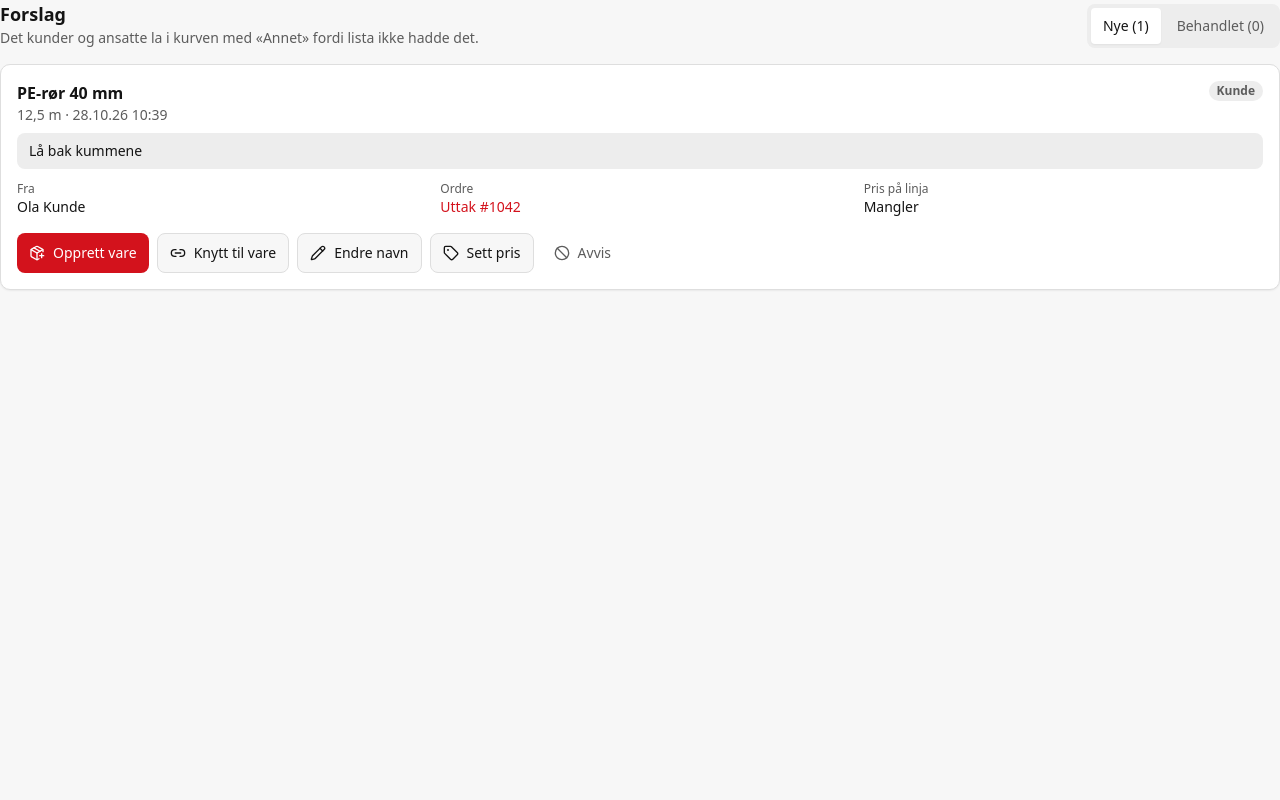
Test: forslagsfanen › knytt til vare sender forslaget og den valgte varen videre
The width and height of the screenshot is (1280, 800).
Click the button "Knytt til vare".
click(223, 253)  # box 157,233 -> 289,273
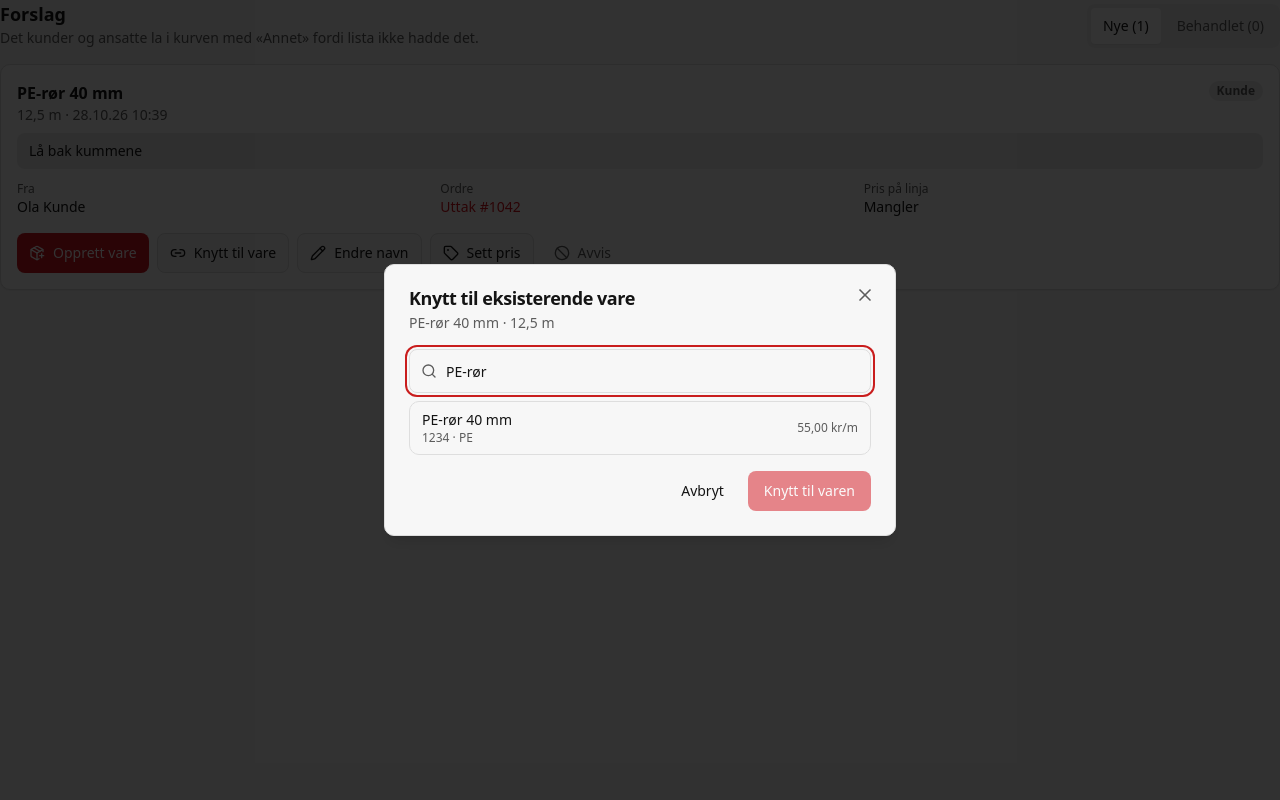
Expected: the search field named "Søk etter vare" holds "PE-rør", 409,349 -> 871,393
Click the button "PE-rør 40 mm 1234 · PE 55,00 kr/m".
click(467, 420)  # box 410,402 -> 870,454
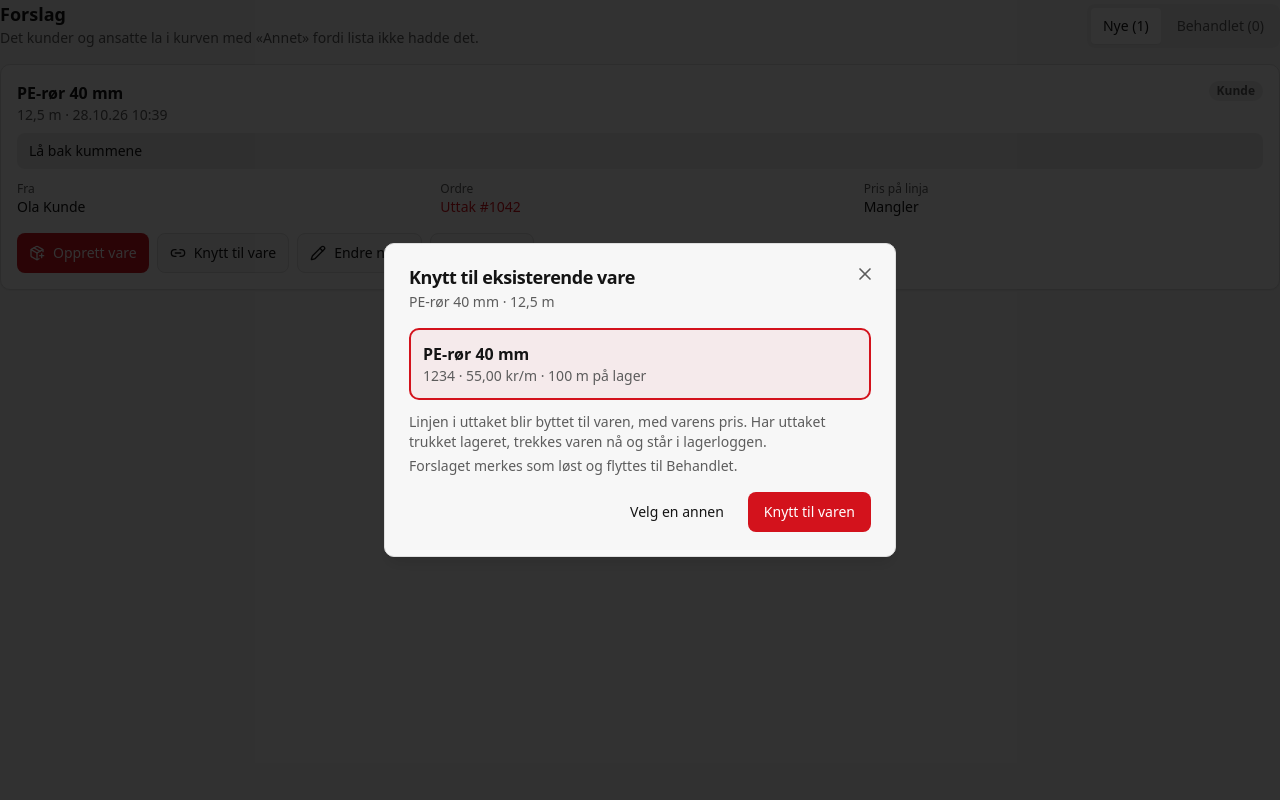
Click the button "Knytt til varen".
click(809, 512)  # box 748,492 -> 871,532
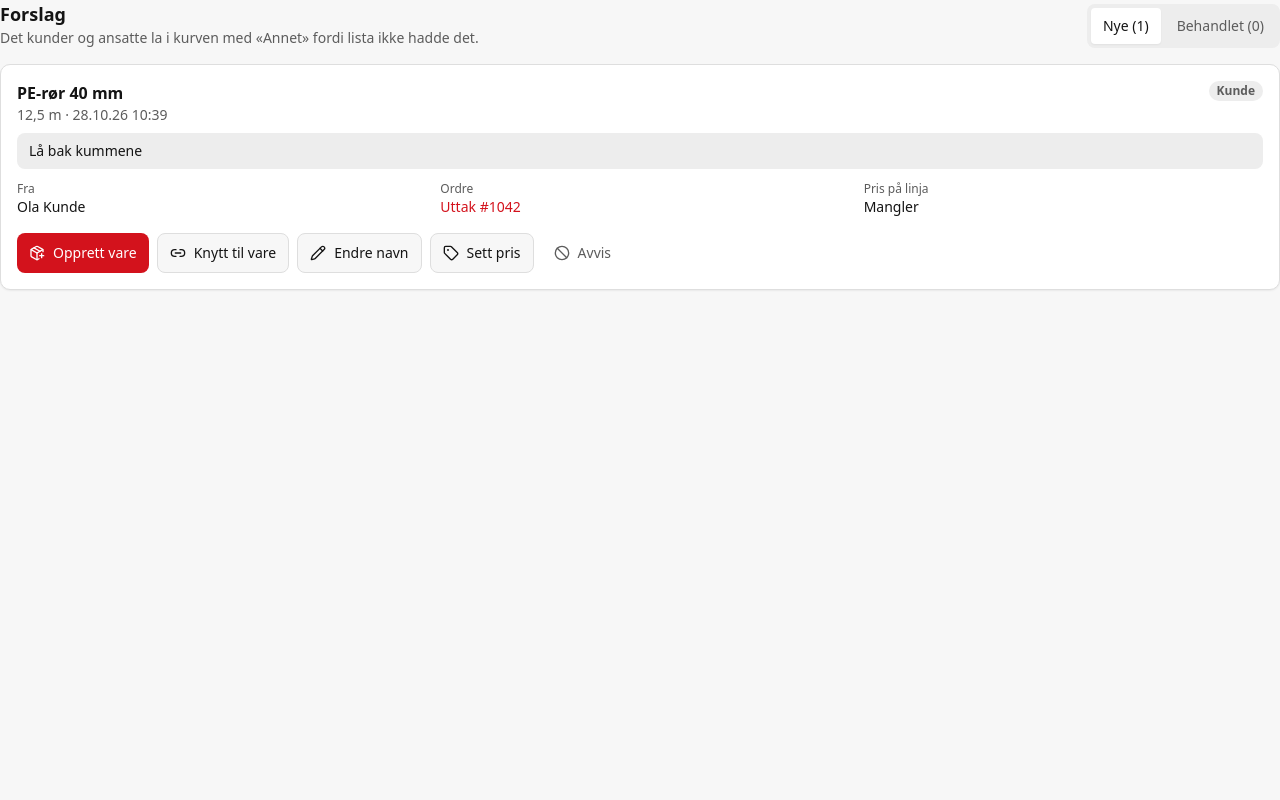
Expected: the dialog is gone
